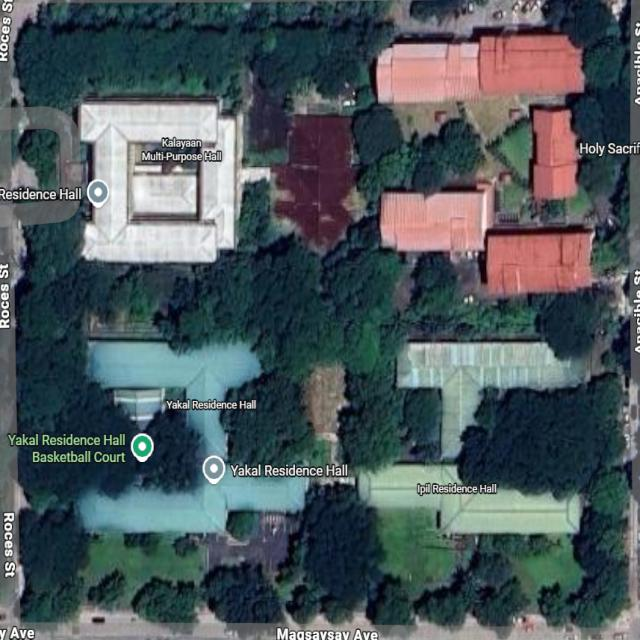Tree: (17, 19, 250, 120), (455, 372, 628, 506), (9, 391, 146, 507), (300, 484, 383, 612), (217, 370, 312, 468), (245, 240, 322, 352), (15, 513, 87, 629), (9, 333, 92, 429), (328, 244, 401, 331), (251, 28, 324, 113), (10, 274, 91, 344), (338, 391, 404, 471), (22, 211, 88, 291), (202, 564, 283, 629), (536, 286, 601, 365), (118, 260, 196, 317), (144, 414, 198, 492), (570, 564, 633, 628), (204, 252, 252, 336), (130, 578, 202, 633), (323, 15, 393, 65), (350, 104, 406, 166), (544, 2, 608, 54), (80, 260, 124, 326), (438, 116, 483, 179), (360, 147, 408, 204), (475, 582, 528, 633), (460, 549, 517, 596), (416, 583, 466, 635), (585, 36, 627, 96), (166, 299, 215, 349), (22, 128, 58, 196), (404, 383, 444, 444), (367, 587, 419, 632), (573, 507, 609, 572), (316, 52, 360, 103), (570, 88, 606, 150), (340, 322, 380, 376), (581, 148, 621, 202), (589, 468, 632, 516), (418, 244, 456, 298), (414, 151, 450, 198), (94, 574, 135, 612), (225, 510, 265, 544), (539, 583, 571, 624), (290, 588, 320, 624), (329, 594, 358, 624), (358, 82, 380, 106)
